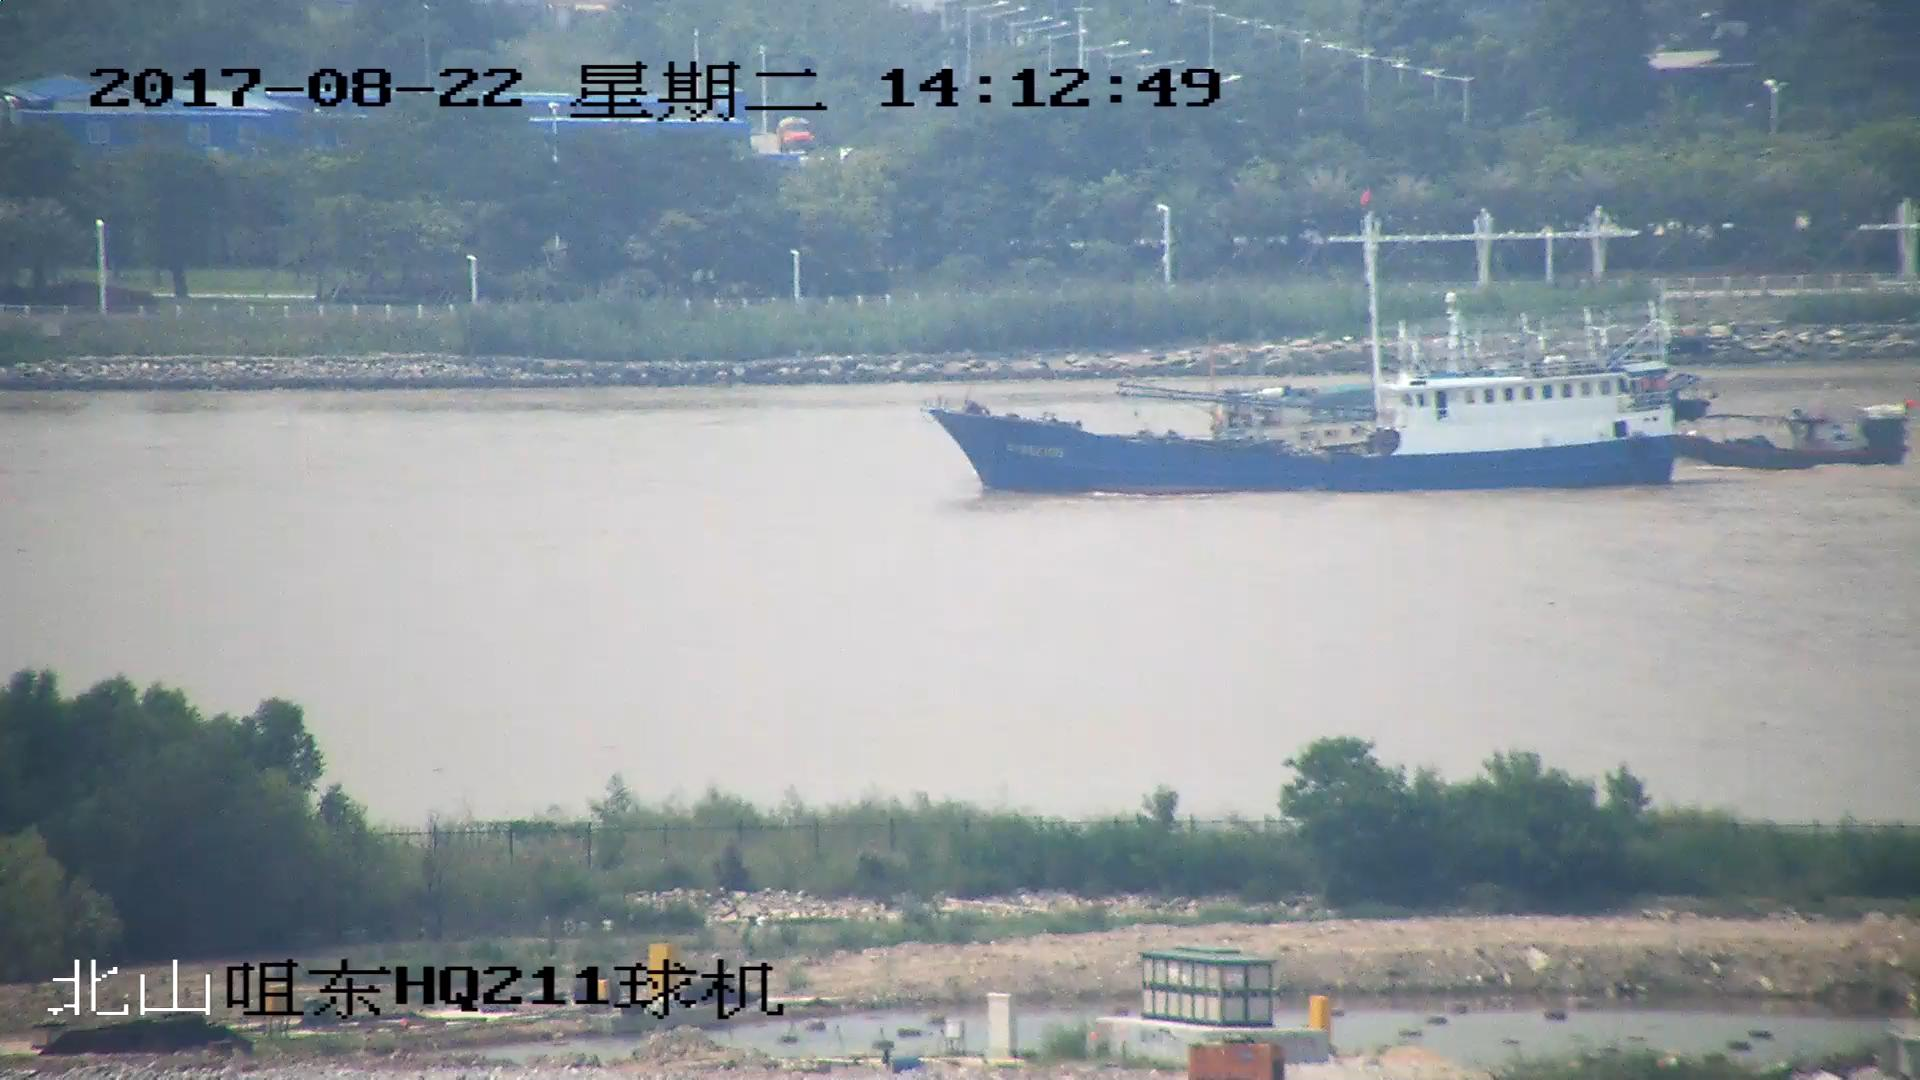fishing boat: (925, 191, 1697, 488), (1678, 399, 1919, 469)
